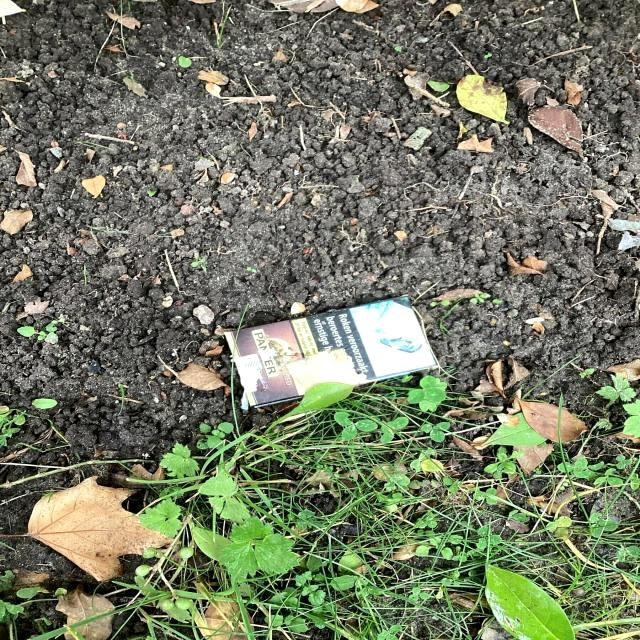Paper: (221, 292, 441, 410)
